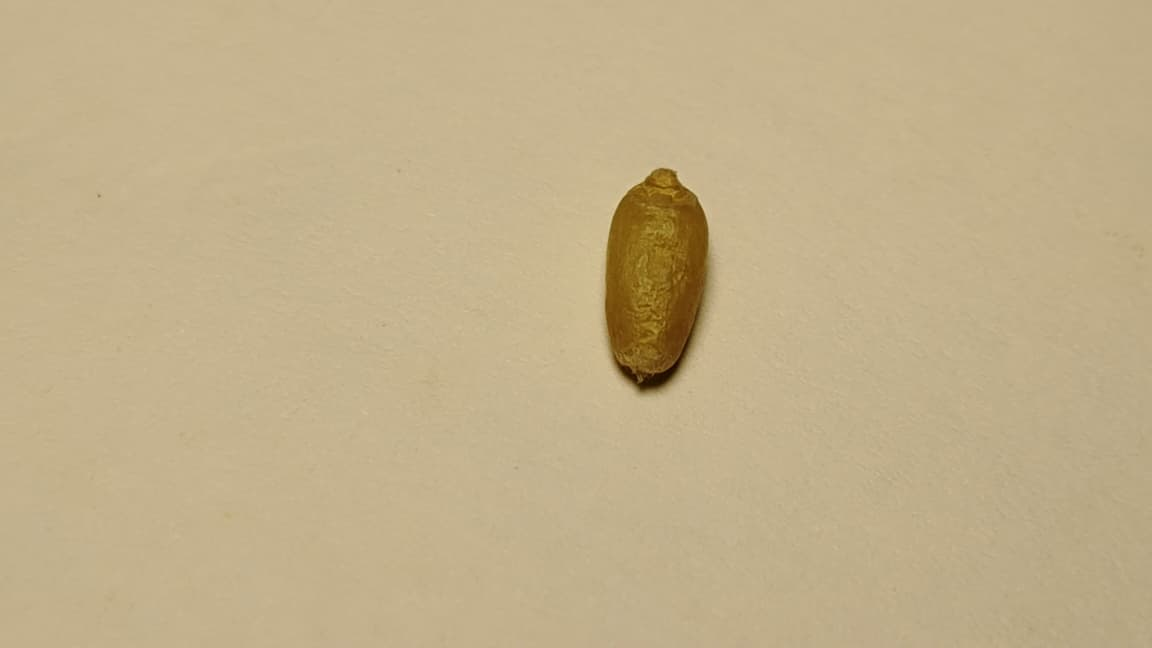healthy: (606, 170, 706, 380)
